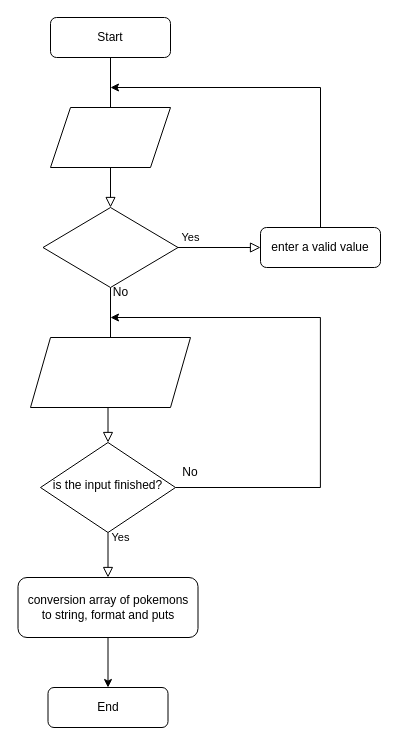
Some shapes in this 398 by 745 pixel diagram are drawn without their labels. Each missing label, with the box of its shape:
get name & color of pokemon, save to array of hashes: (30, 336, 190, 408)
get numbers of pokemons: (50, 106, 170, 168)
if numbers <= 0: (42, 206, 178, 288)
